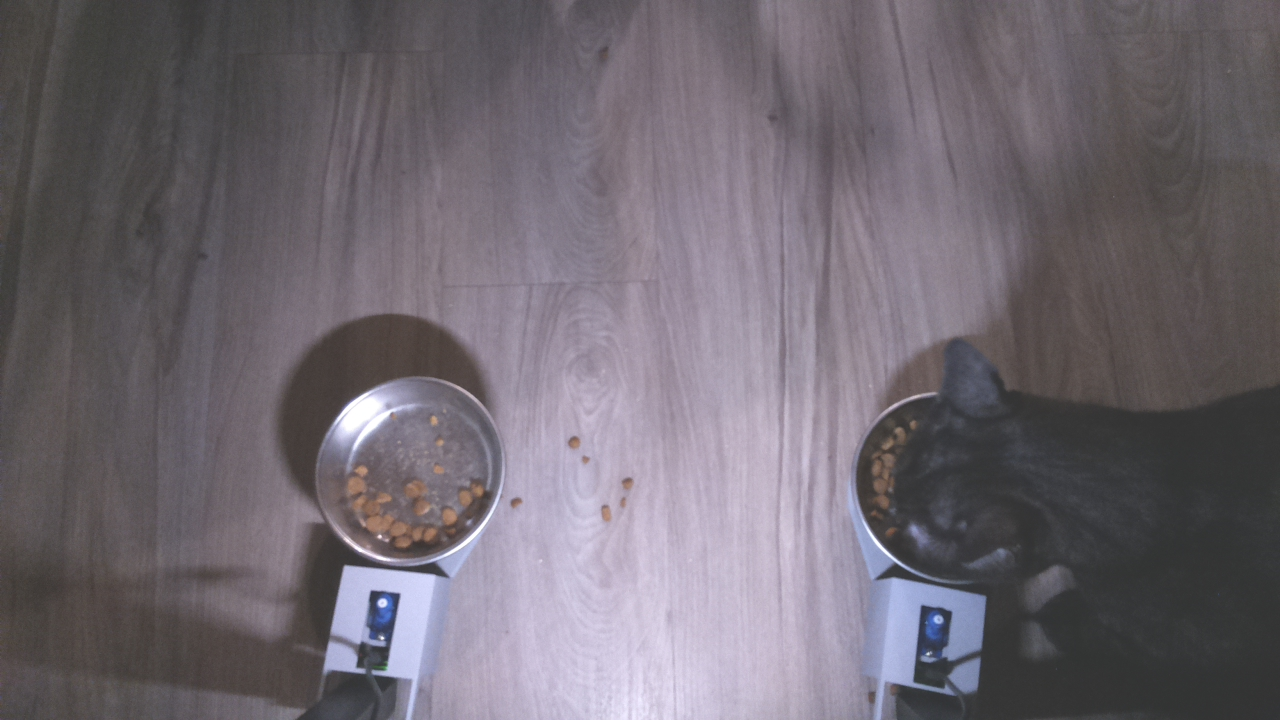open_bowl: (313, 371, 509, 571)
saki_eating: (850, 326, 1078, 594)
